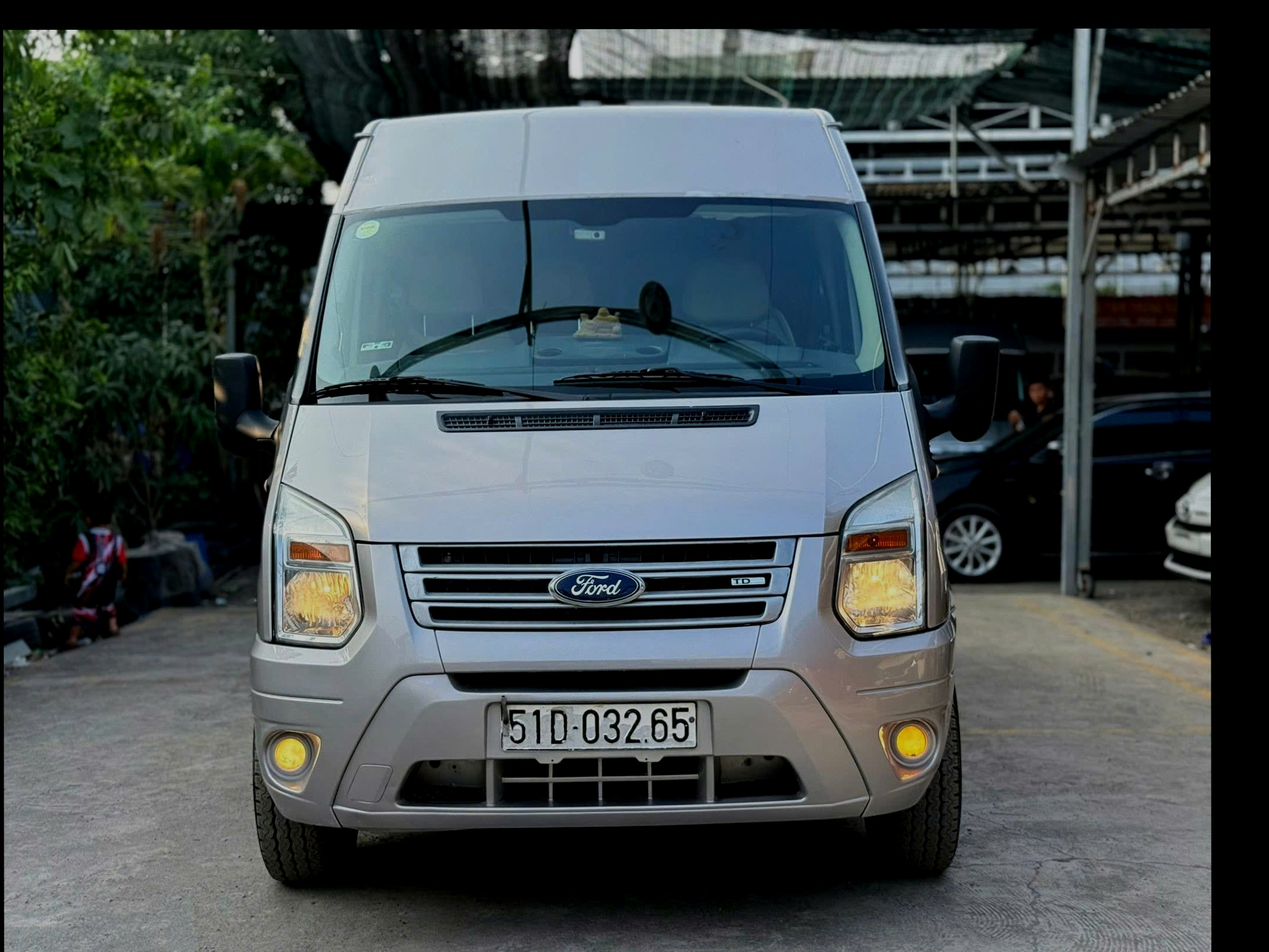Bien-so: (504, 660, 708, 716)
